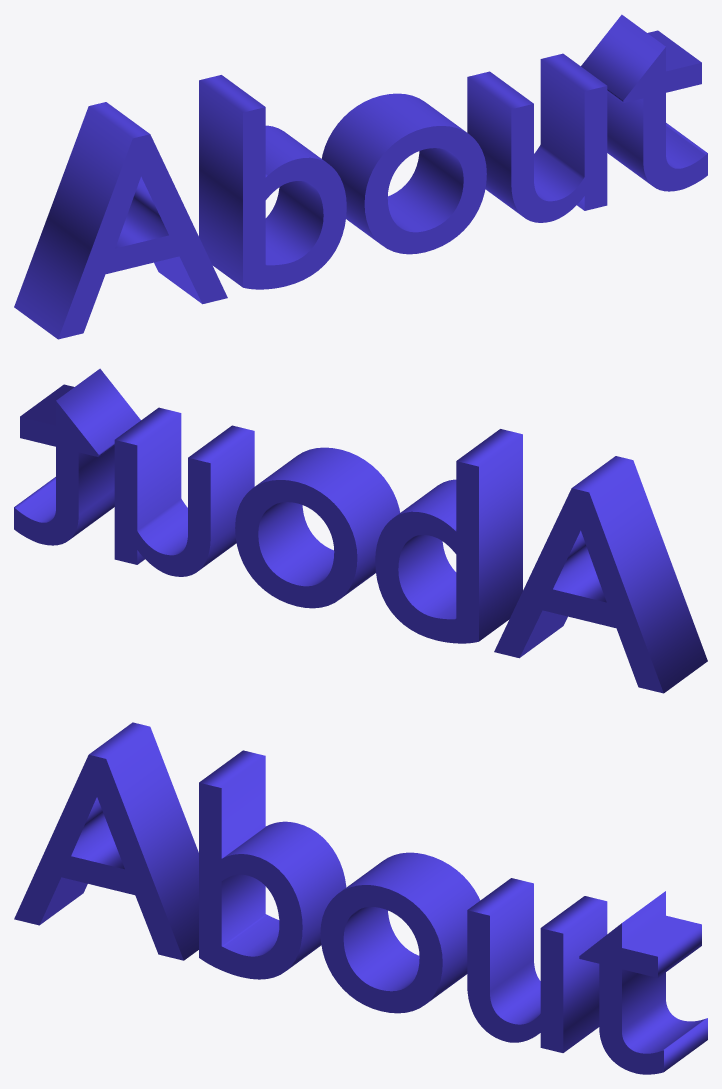
The model's file is about.gltf.
3 views of the same model, one above another, from view 1: azimuth 30°, elevation 25°; view 2: azimuth 150°, elevation 25°; view 3: azimuth 330°, elevation 25° (orthographic).
Visible parts, largest first — view 1: Text; view 2: Text; view 3: Text.
Boxes of the visible parts, box(x1,y1,x2,y2) form: Text: box(14, 14, 707, 339); Text: box(14, 368, 707, 693); Text: box(14, 722, 707, 1074).
Bounding box in the file's own units: 2.55 × 0.695 × 0.3.
